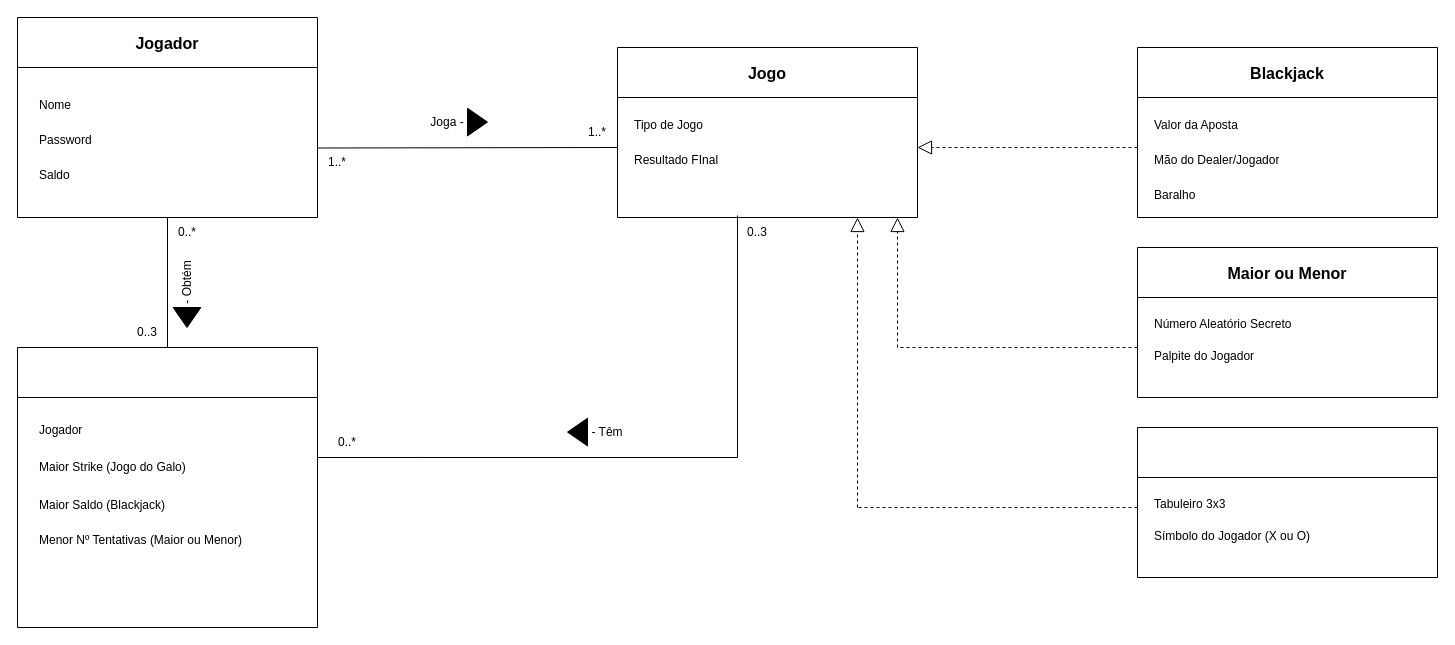
This 1455x645 diagram has some shape labels left out. Here are the shapes that lost their labels. From the top down, the box of each, then its label:
(16, 346, 318, 628): Ranking
(1136, 426, 1438, 578): Jogo do Galo
